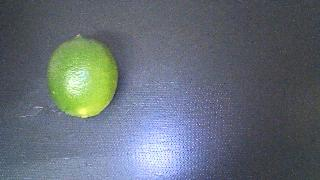EXPORTACION: (47, 35, 118, 118)
